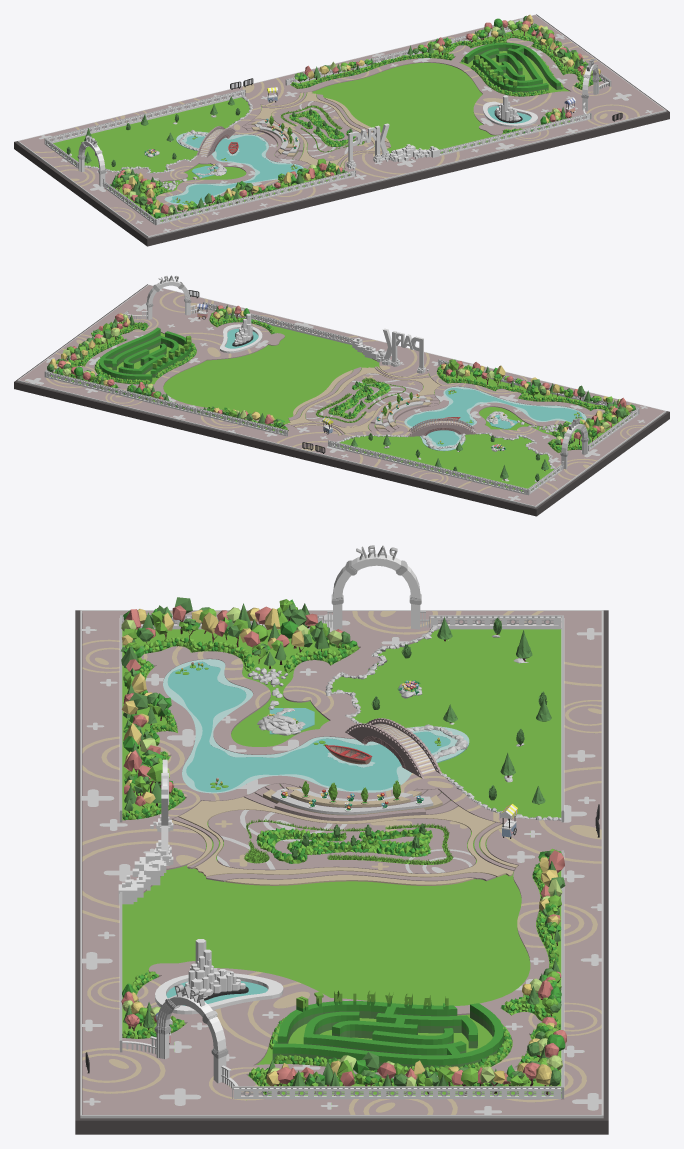
The model's file is landscape.glb.
3 views of the same model, one above another, from view 1: azimuth 30°, elevation 25°; view 2: azimuth 150°, elevation 25°; view 3: azimuth 270°, elevation 25° (orthographic). The views are drawn at different scales.
Parts seen in each view (by area): view 1: ground_01, grass_02, ground_06, labyrinth_01, pond_01, bushes_29, fence_04, fence_01, trees_22, entrance_02, trees_21, grass_03 (+12 smaller); view 2: ground_01, grass_02, ground_06, labyrinth_01, pond_01, trees_22, fence_02, fence_01, grass_03, trees_21, entrance_02, trees_28 (+13 smaller); view 3: ground_01, grass_02, ground_06, labyrinth_01, pond_01, trees_21, grass_03, trees_28, fence_02, trees_22, fountain_01, entrance_03 (+16 smaller).
Part boxes in pixels (x1,y1,x2,y2): ground_01: (14, 14, 669, 246); grass_02: (49, 29, 592, 222); ground_06: (242, 91, 390, 168); labyrinth_01: (461, 42, 563, 96); pond_01: (164, 131, 303, 204); bushes_29: (290, 33, 601, 89); fence_04: (104, 170, 355, 225); fence_01: (44, 89, 245, 168); trees_22: (187, 158, 345, 211); entrance_02: (346, 123, 439, 169); trees_21: (111, 168, 188, 218); grass_03: (280, 105, 364, 152); ground_01: (14, 284, 669, 516); grass_02: (51, 315, 634, 492); ground_06: (287, 366, 440, 435); labyrinth_01: (94, 327, 196, 384); pond_01: (404, 386, 586, 451); trees_22: (441, 359, 601, 404); fence_02: (44, 310, 287, 436); fence_01: (328, 440, 561, 495); grass_03: (316, 377, 405, 422); trees_21: (555, 396, 635, 447); entrance_02: (352, 328, 428, 373); trees_28: (56, 313, 134, 365); ground_01: (75, 610, 608, 1134); grass_02: (122, 629, 561, 1108); ground_06: (172, 783, 517, 885); labyrinth_01: (269, 990, 512, 1075); pond_01: (163, 659, 469, 793); trees_21: (121, 597, 350, 668); grass_03: (244, 819, 453, 864); trees_28: (265, 1052, 528, 1095); fence_02: (232, 850, 564, 1099); trees_22: (121, 642, 173, 812); fountain_01: (155, 939, 283, 1014); entrance_03: (122, 984, 238, 1089).
Size of the model in its own units: 11.47 by 1.04 by 5.07.
